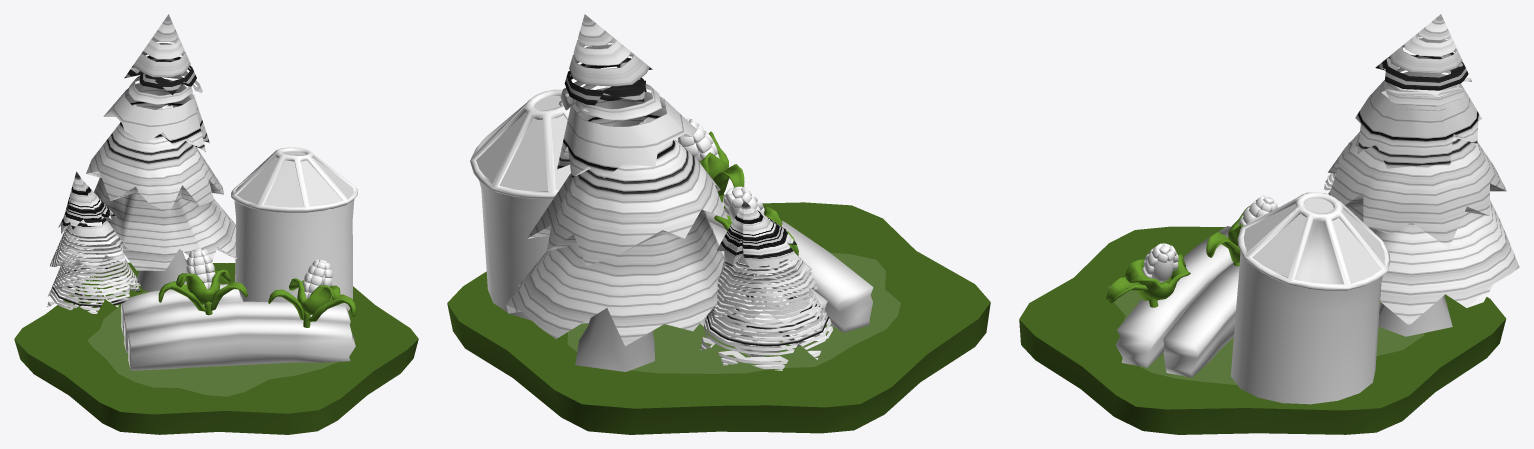
The model's file is Forest_GrainFarm00.fbx.
3 views of the same model, side by side, from view 1: azimuth 30°, elevation 25°; view 2: azimuth 150°, elevation 25°; view 3: azimuth 270°, elevation 25° (orthographic). The views are drawn at different scales.
Parts seen in each view (by area): view 1: Forest_GrainFarm; view 2: Forest_GrainFarm; view 3: Forest_GrainFarm.
Boxes of the visible parts, x1,y1,x2,y2 form: Forest_GrainFarm: (14,14,418,434); Forest_GrainFarm: (447,14,990,434); Forest_GrainFarm: (1019,14,1519,434).
Size of the model in its own units: 0.9199 by 0.7972 by 1.05.
